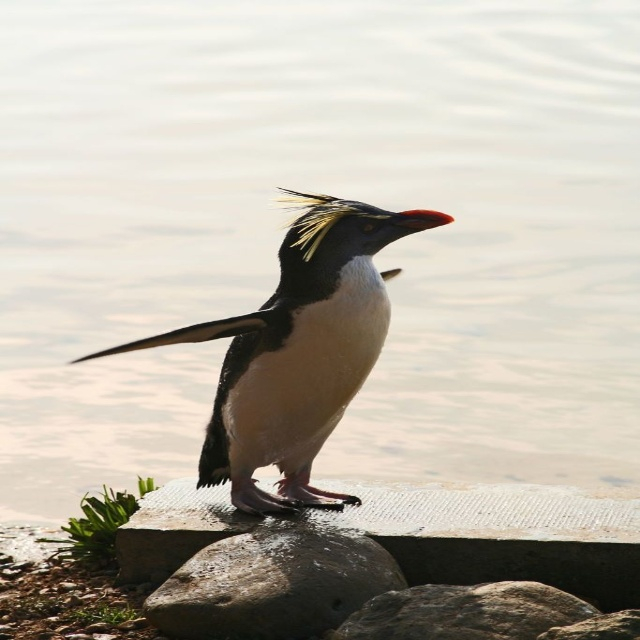Penguin: (64, 191, 456, 503)
